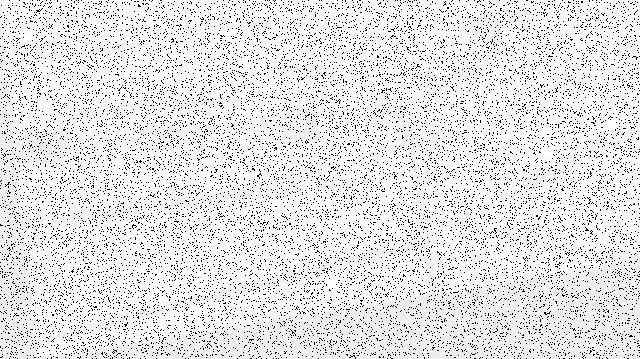pot: (441, 11, 515, 80), (14, 126, 70, 164), (401, 67, 447, 113), (276, 104, 324, 148), (128, 122, 176, 152), (362, 94, 395, 127)
